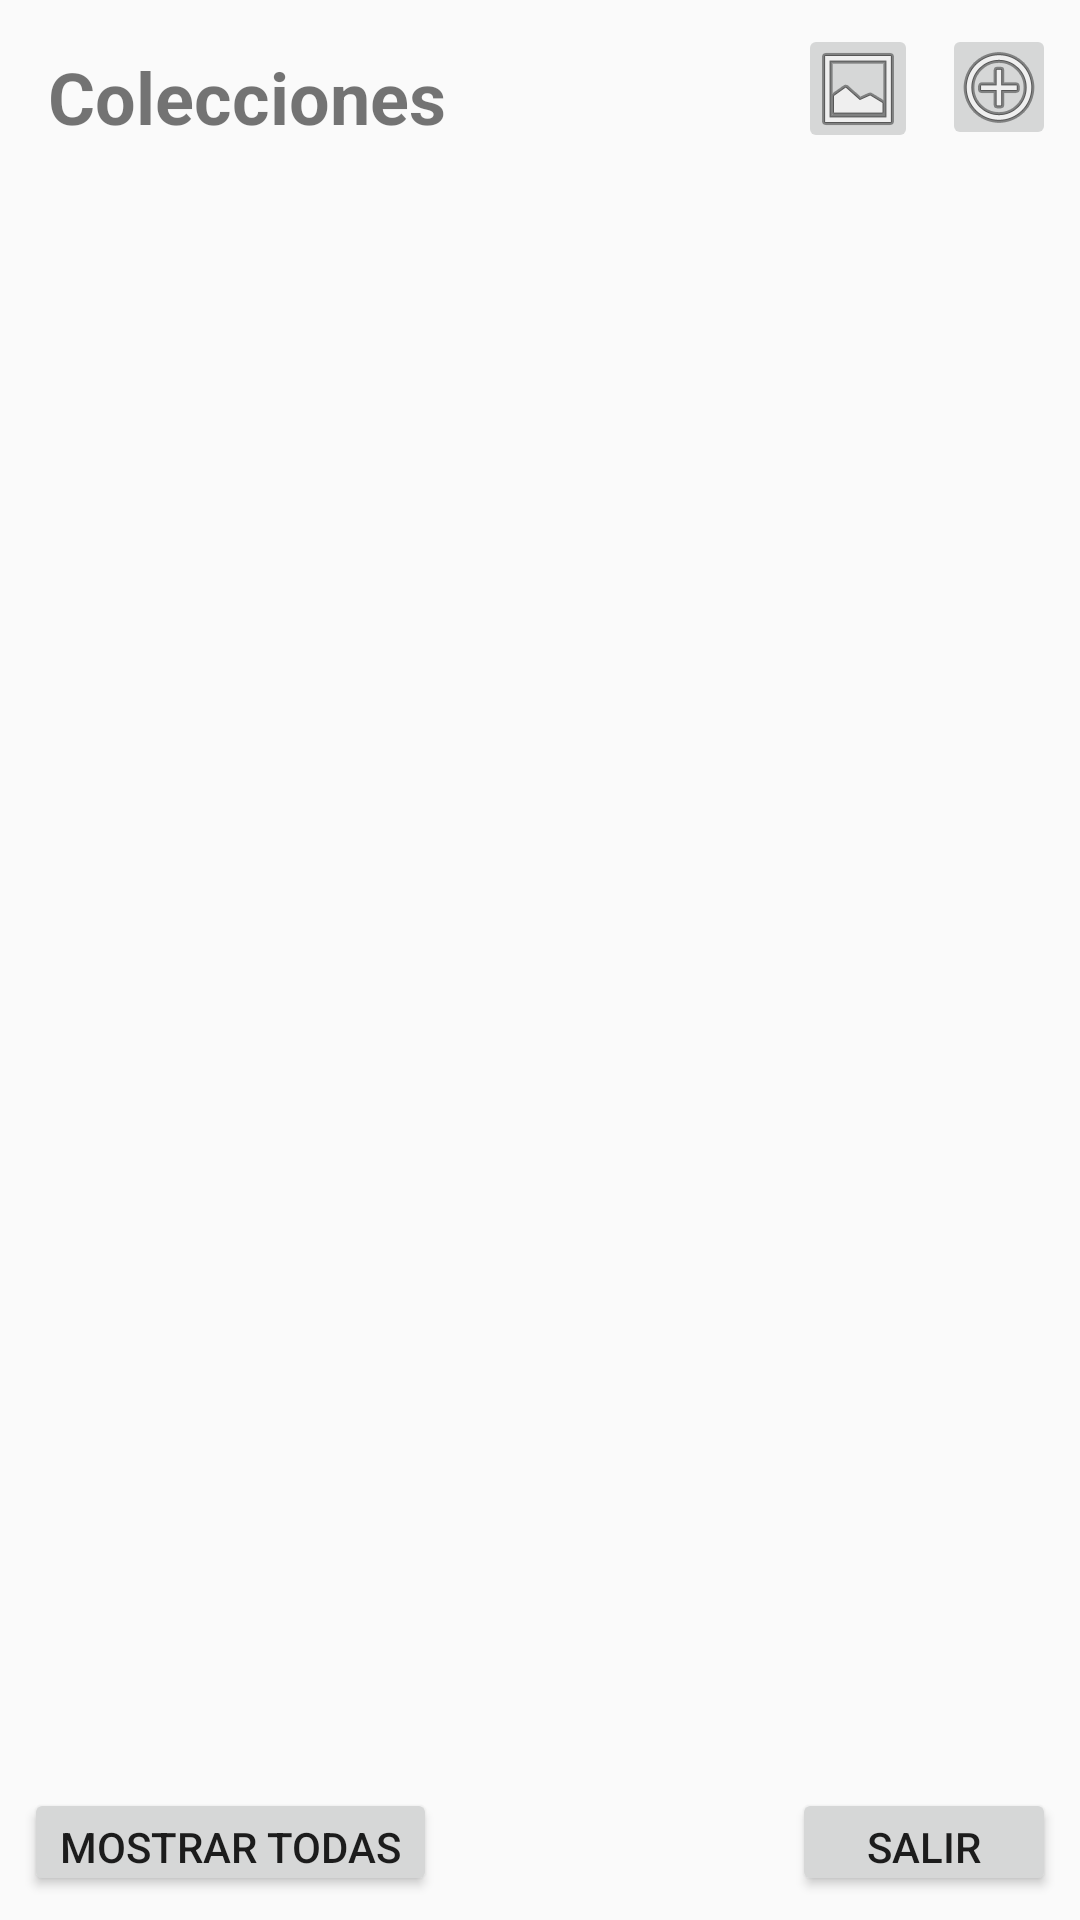

Point at icon controls on the screen. Image size 1080px x 1920px, points as (x=x, y=y).
add: (x=999, y=87)
gallery: (x=858, y=88)
